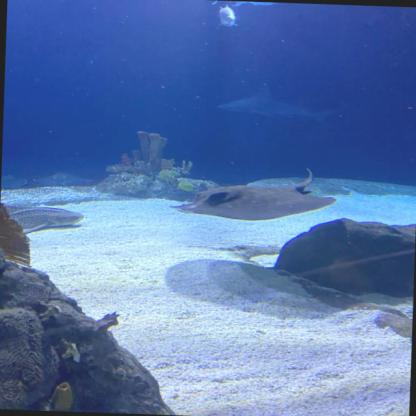fish: (0, 203, 93, 231), (212, 7, 250, 27), (216, 0, 277, 8)
shark: (209, 84, 332, 125)
stingray: (172, 180, 330, 224)
